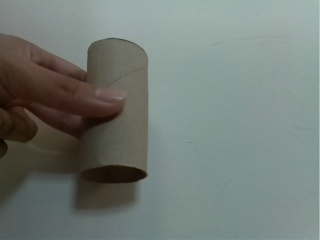rollo papel: (77, 37, 151, 186)
